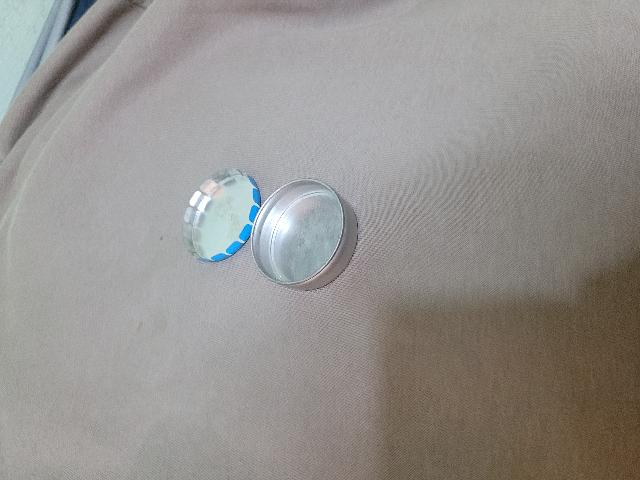Metal: (250, 175, 364, 293), (181, 168, 261, 267)
